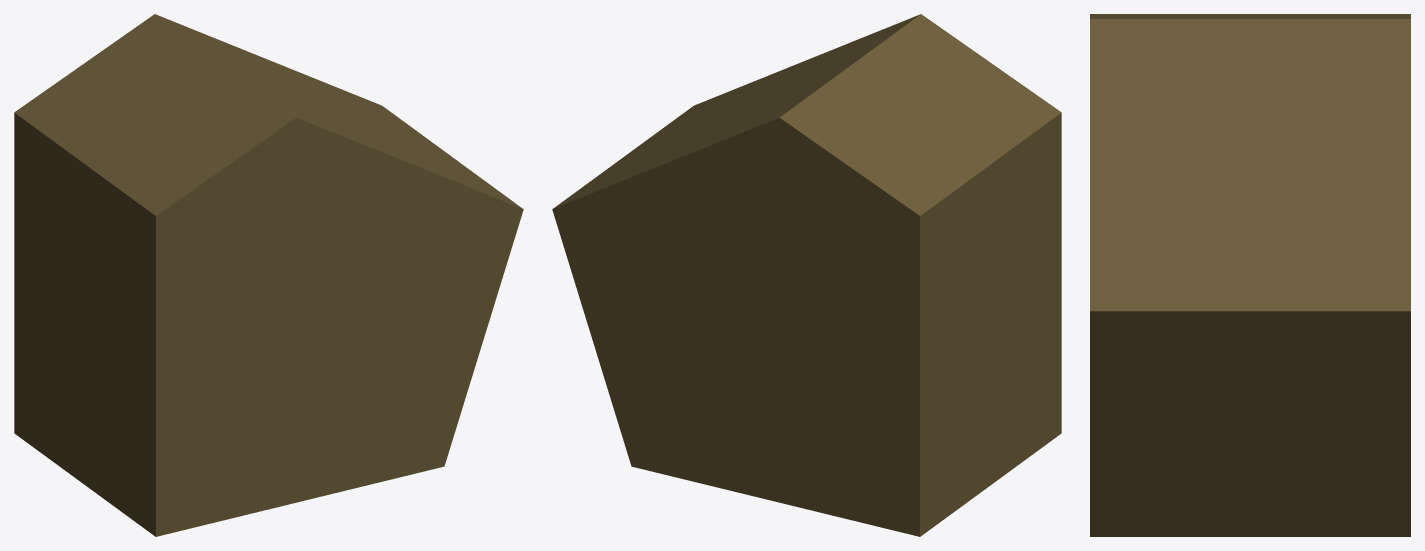
File: chart_obstacle_012.obj
3 views of the same model, side by side, from view 1: azimuth 30°, elevation 25°; view 2: azimuth 150°, elevation 25°; view 3: azimuth 270°, elevation 25° (orthographic). The views are drawn at different scales.
Visible parts, largest first — view 1: chart_obstacle_012; view 2: chart_obstacle_012; view 3: chart_obstacle_012.
Boxes of the visible parts, <box> form: chart_obstacle_012: <box>14,14,523,536</box>; chart_obstacle_012: <box>552,14,1061,536</box>; chart_obstacle_012: <box>1090,14,1410,536</box>.
Bounding box in the file's own units: 12 × 12 × 8.
